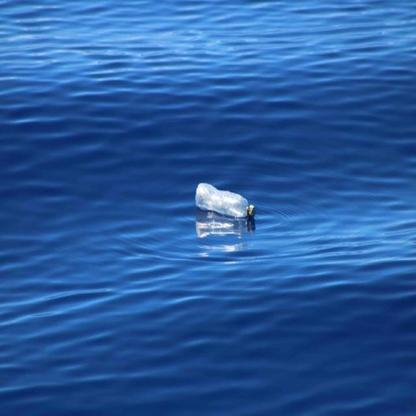plastic bottle: (194, 182, 255, 217)
